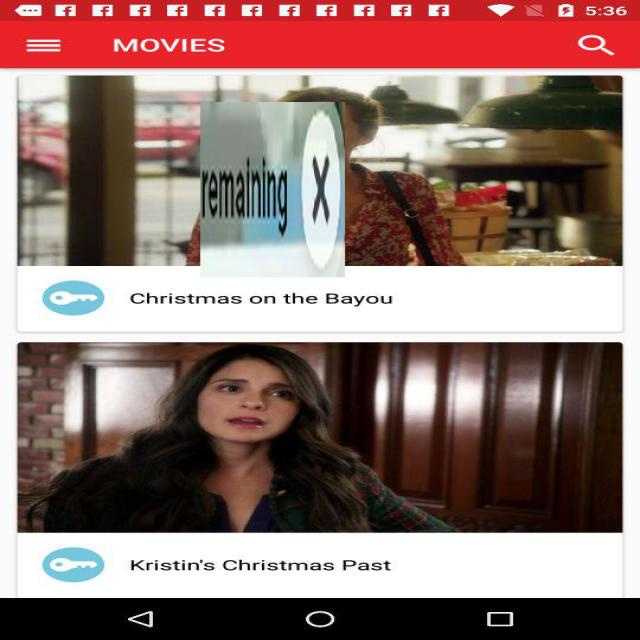misdirection: (200, 102, 345, 277)
